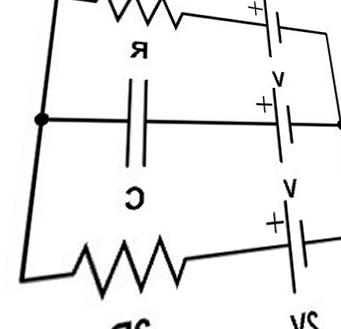resistor: (55, 225, 203, 301)
